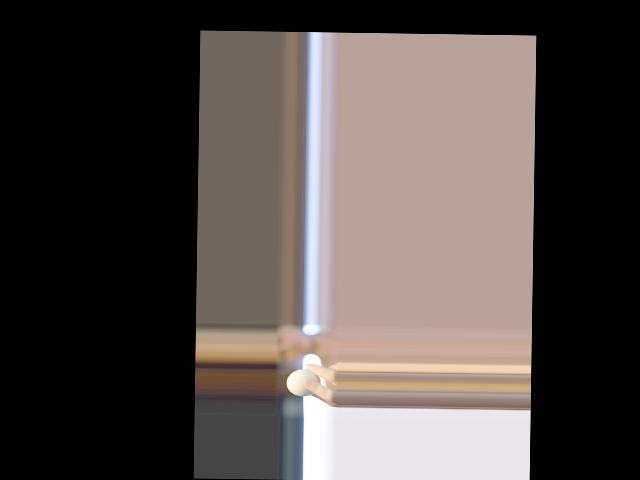egg: (286, 368, 321, 396)
